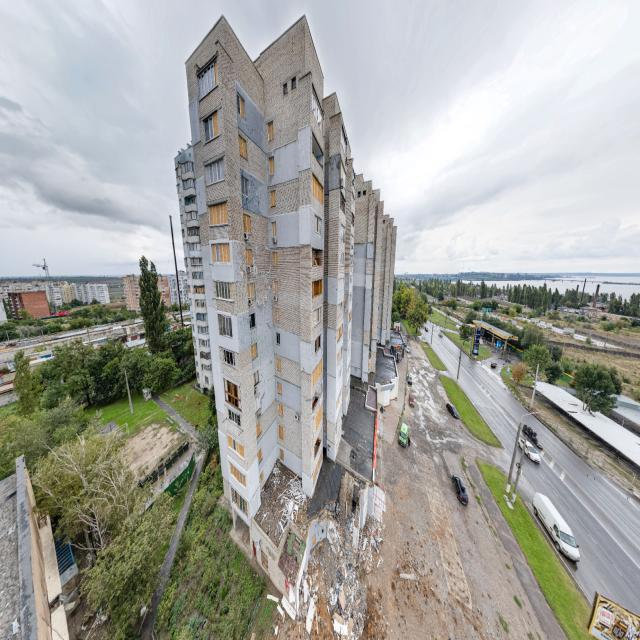building: (174, 12, 398, 609)
